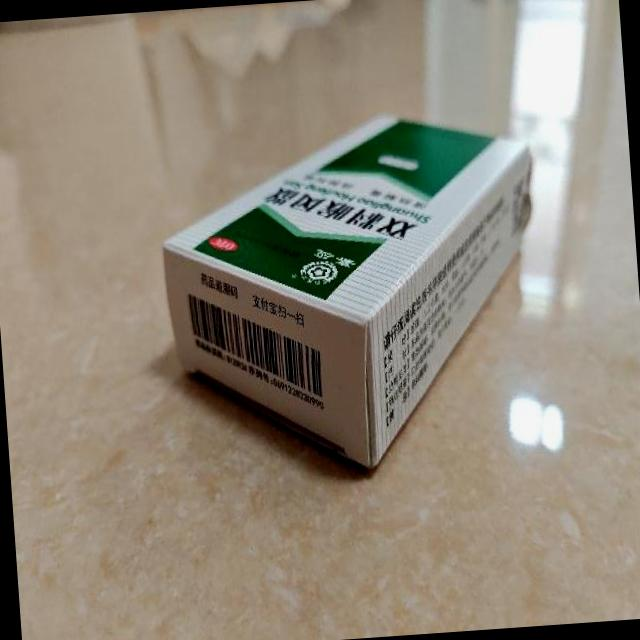box: (153, 104, 552, 483)
